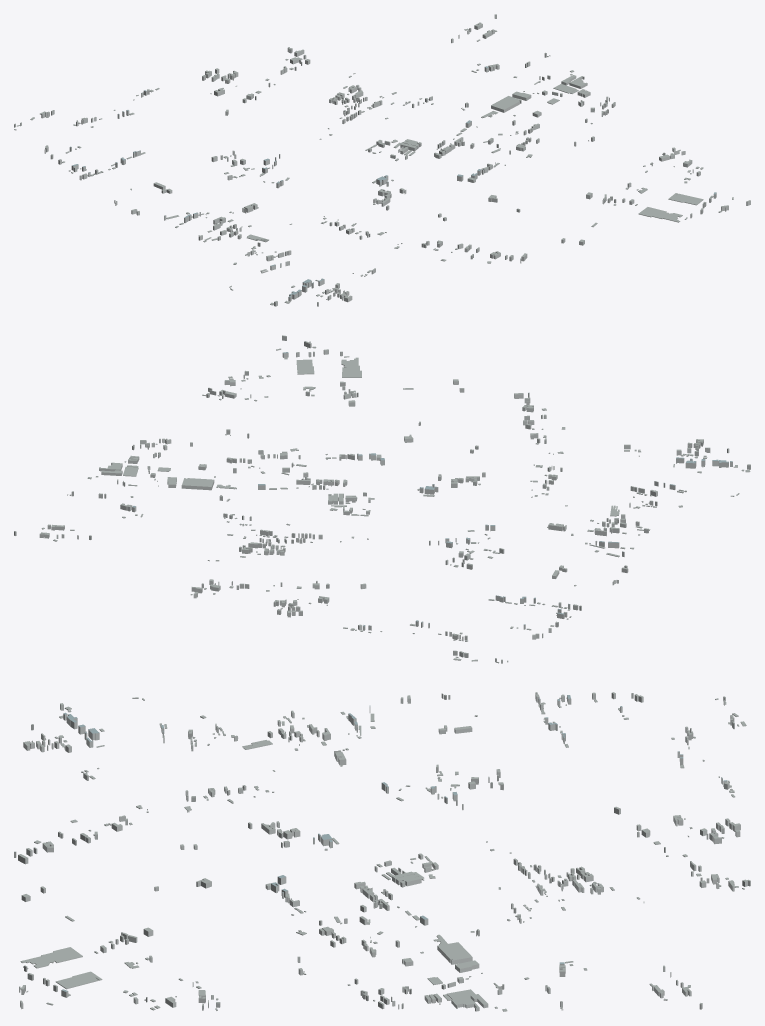
Rendered from far.glb.
3 views of the same model, one above another, from view 1: azimuth 30°, elevation 25°; view 2: azimuth 150°, elevation 25°; view 3: azimuth 270°, elevation 25° (orthographic). The views are drawn at different scales.
Size of the model in its own units: 2112 by 23.05 by 2092.
